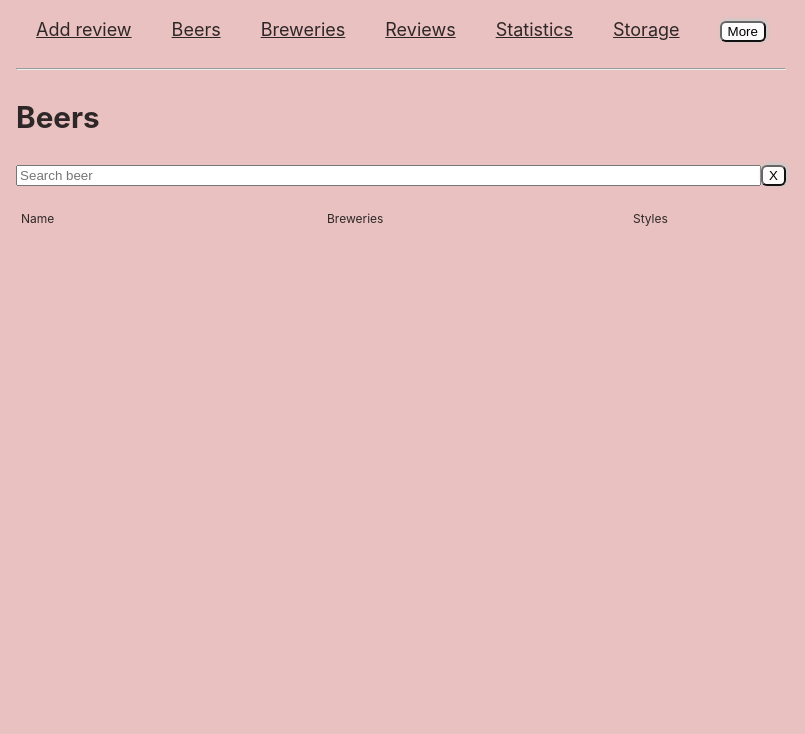
Test: navigates to Beers
What coordinates should you click on to do the following:
click the link "Add review"
I would click on:
 (84, 30)
Its box is [36,19,132,40].
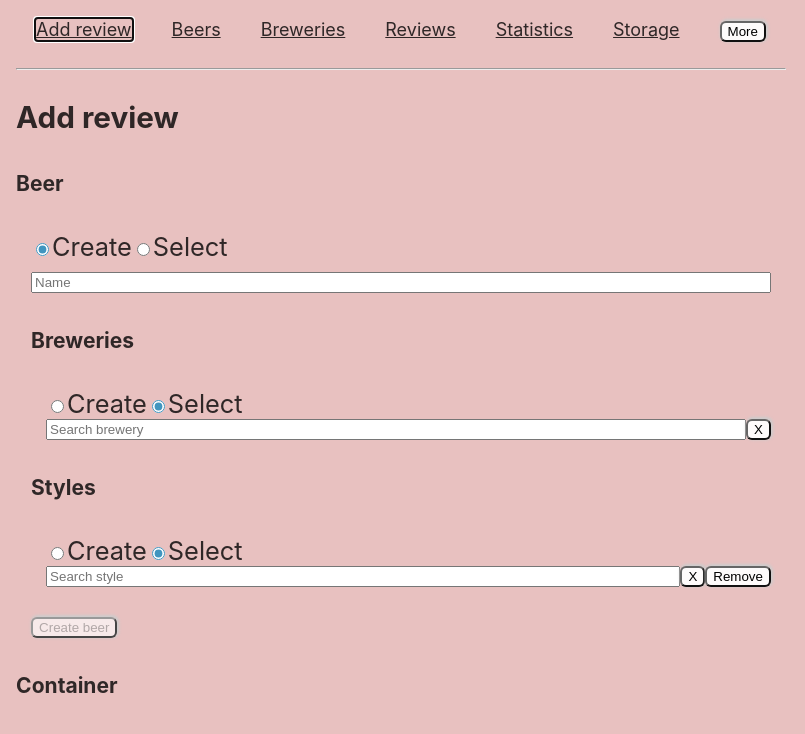
expect the heading "Add review" is shown: met, box [16,99,179,135]
What coordinates should you click on to do the following:
click the link "Beers"
I would click on:
 (196, 30)
Its box is [172,19,221,40].
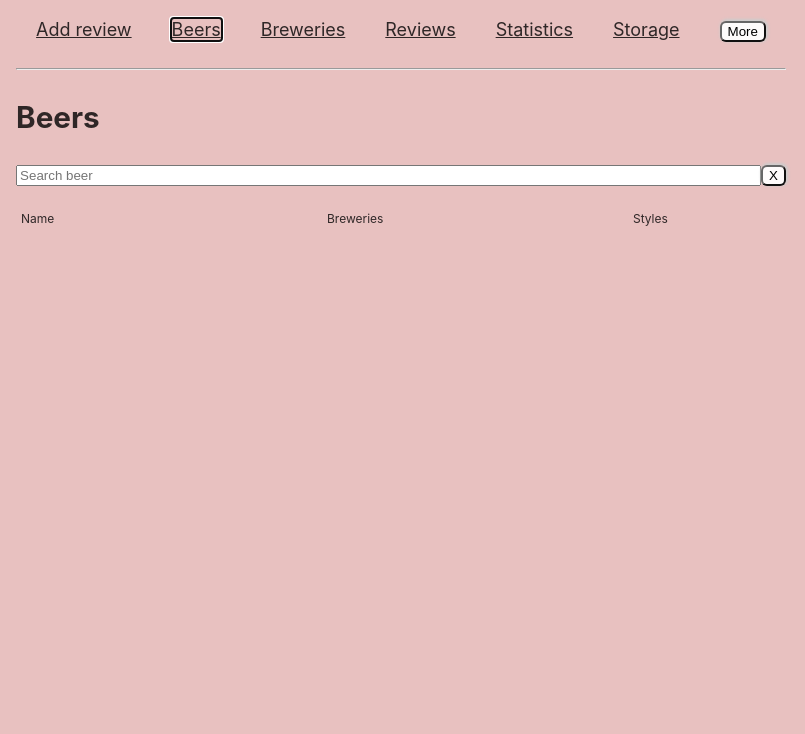
expect the heading "Beers" is shown: met, box [16,99,100,135]
